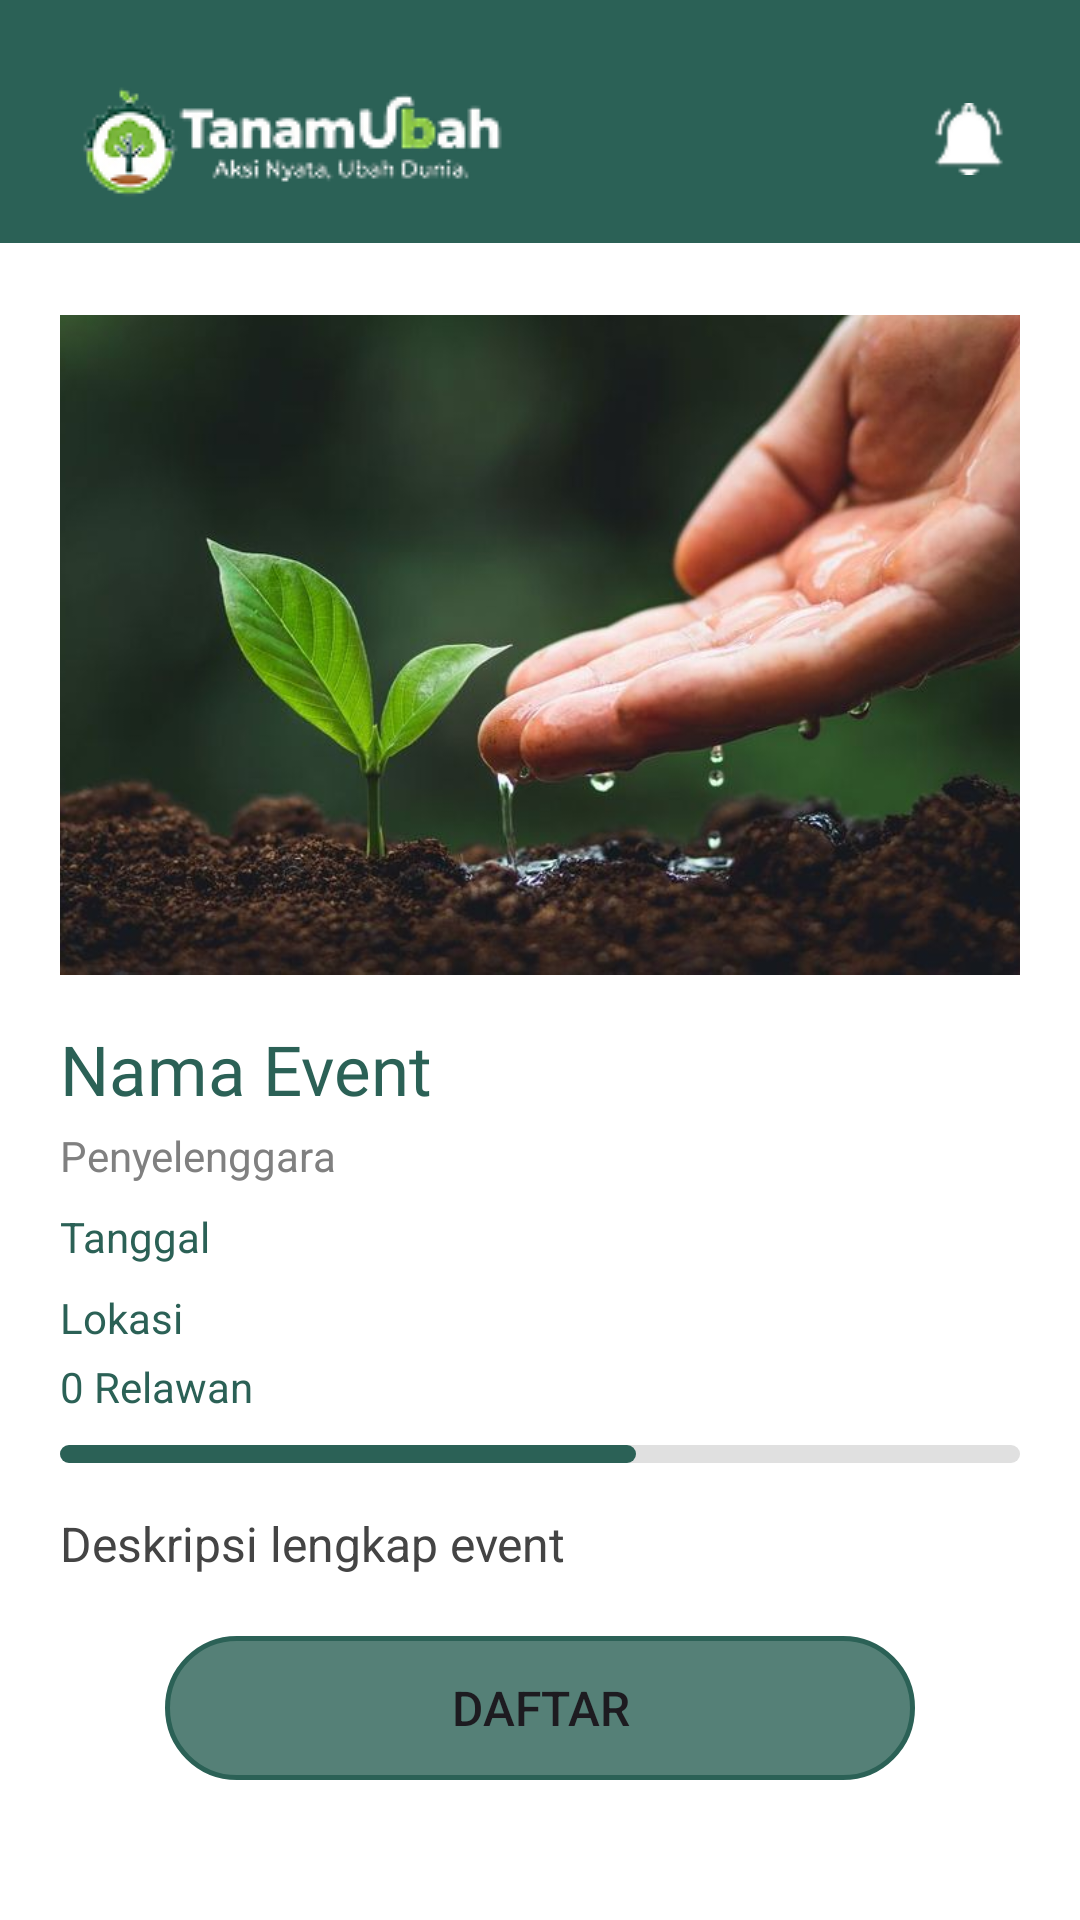

Where icons sit on this 1080 × 1920 app screen, as (x1, y1, x2, y2):
notification: (935, 103, 1003, 175)
